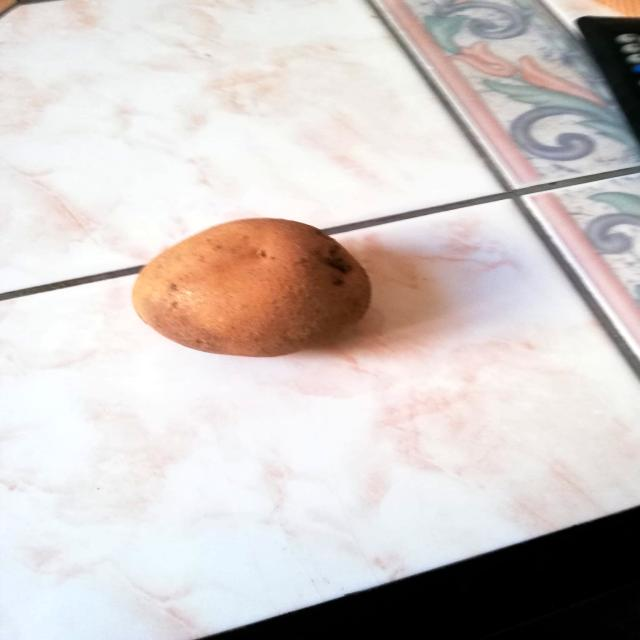potato: (126, 204, 378, 360)
